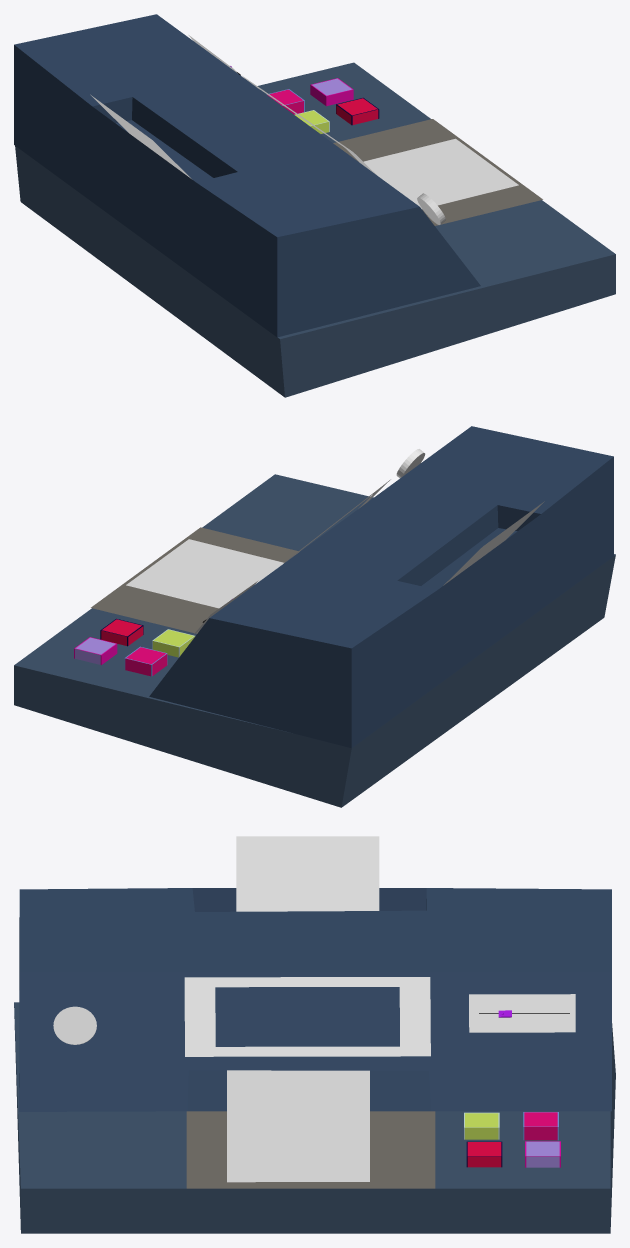
File: printer.fbx
3 views of the same model, one above another, from view 1: azimuth 30°, elevation 25°; view 2: azimuth 150°, elevation 25°; view 3: azimuth 270°, elevation 25° (orthographic). The views are drawn at different scales.
Visible parts, largest first — view 1: Cube.001, Cube, Plane.004, Plane, Button3, BUtton2, Plane.003, Button4; view 2: Cube.001, Cube, Plane.004, Plane, Button4, Button3, BUtton2, button1, Plane.003; view 3: Cube.001, Cube, Plane.004, Plane.003, Plane, Plane.001, Plane.002, Cylinder, Button4, button1, BUtton2, Button3.
Part boxes in pixels (x1,y1,x2,y2): Cube.001: [14, 14, 480, 337]; Cube: [15, 62, 615, 397]; Plane.004: [363, 138, 518, 208]; Plane: [333, 119, 542, 225]; Button3: [310, 78, 353, 106]; BUtton2: [336, 97, 379, 125]; Plane.003: [90, 94, 191, 178]; Button4: [266, 89, 304, 114]; Cube.001: [149, 426, 613, 748]; Cube: [14, 474, 615, 807]; Plane.004: [126, 539, 283, 608]; Plane: [91, 527, 299, 633]; Button4: [124, 646, 167, 676]; Button3: [74, 637, 117, 664]; BUtton2: [100, 618, 143, 646]; button1: [152, 629, 195, 657]; Plane.003: [443, 501, 544, 585]; Cube.001: [19, 888, 611, 1111]; Cube: [14, 1002, 615, 1233]; Plane.004: [227, 1070, 369, 1182]; Plane.003: [236, 836, 379, 911]; Plane: [186, 1111, 435, 1188]; Plane.001: [184, 977, 430, 1056]; Plane.002: [469, 994, 575, 1032]; Cylinder: [53, 1006, 96, 1044]; Button4: [523, 1112, 558, 1140]; button1: [464, 1112, 499, 1139]; BUtton2: [466, 1141, 502, 1167]; Button3: [525, 1141, 560, 1167].
Size of the model in its own units: 375 by 191 by 472.
